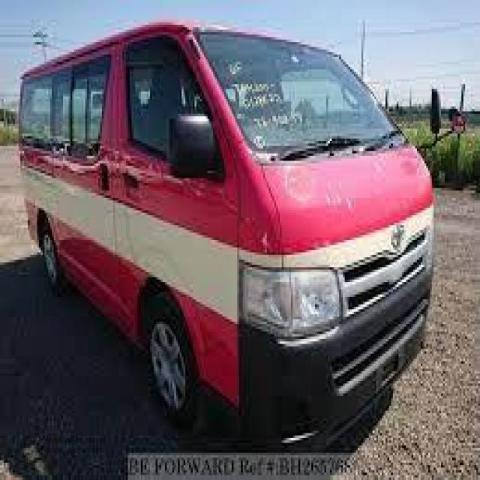van: (16, 22, 437, 418)
